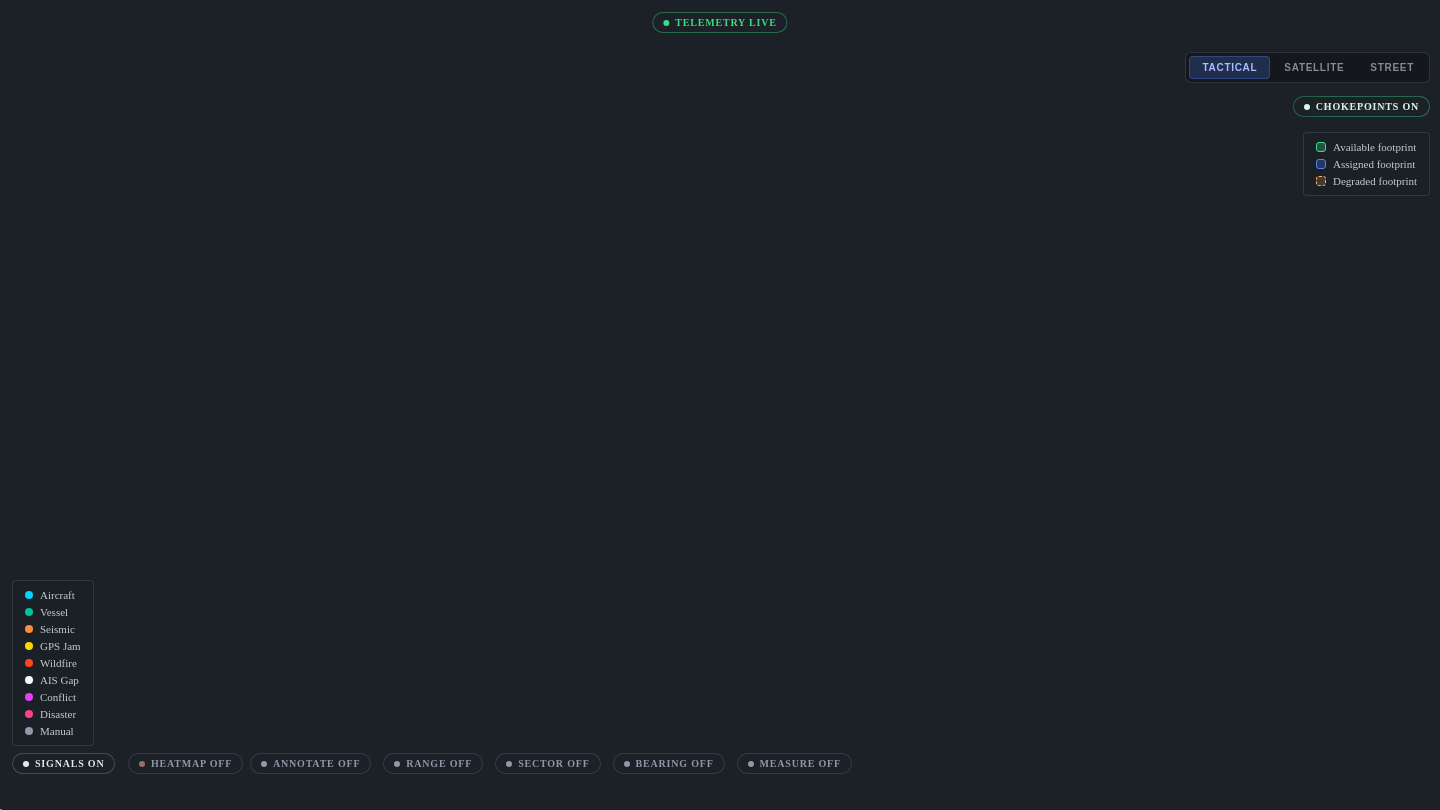
Test: MapPage selection routing › toggles the heatmap control and legend independently of the signal legend
The width and height of the screenshot is (1440, 810).
expect the text "LOW DENSITY" is not shown: met
Click the button with aria-label "Toggle signal heatmap": coordinates (186, 764) x1=128 y1=753 x2=243 y2=774
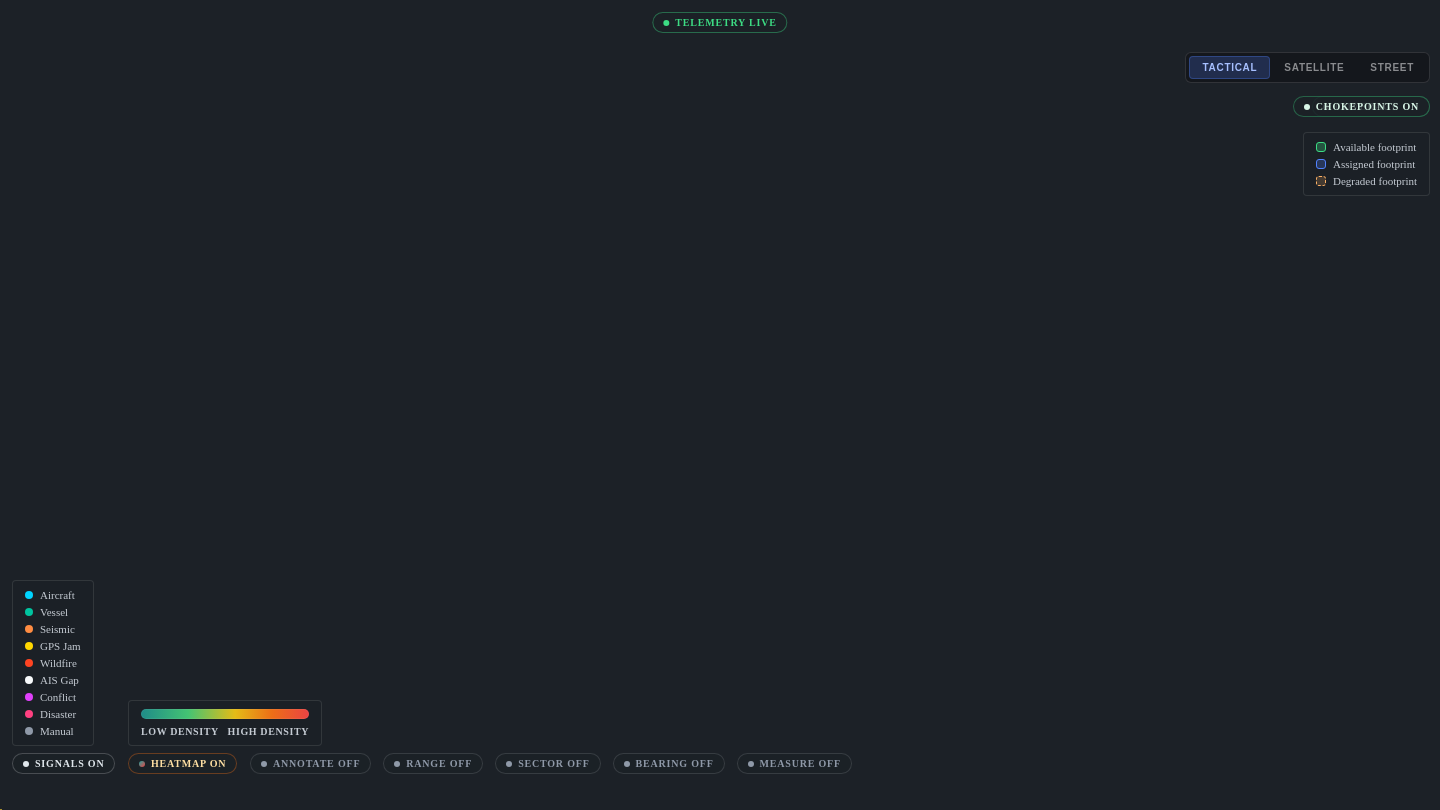
expect the button with aria-label "Toggle signal heatmap" reads "HEATMAP ON": met, box x1=128 y1=753 x2=237 y2=774
expect the text "LOW DENSITY" is shown: met, box x1=141 y1=726 x2=219 y2=737
expect the text "HIGH DENSITY" is shown: met, box x1=228 y1=726 x2=309 y2=737
